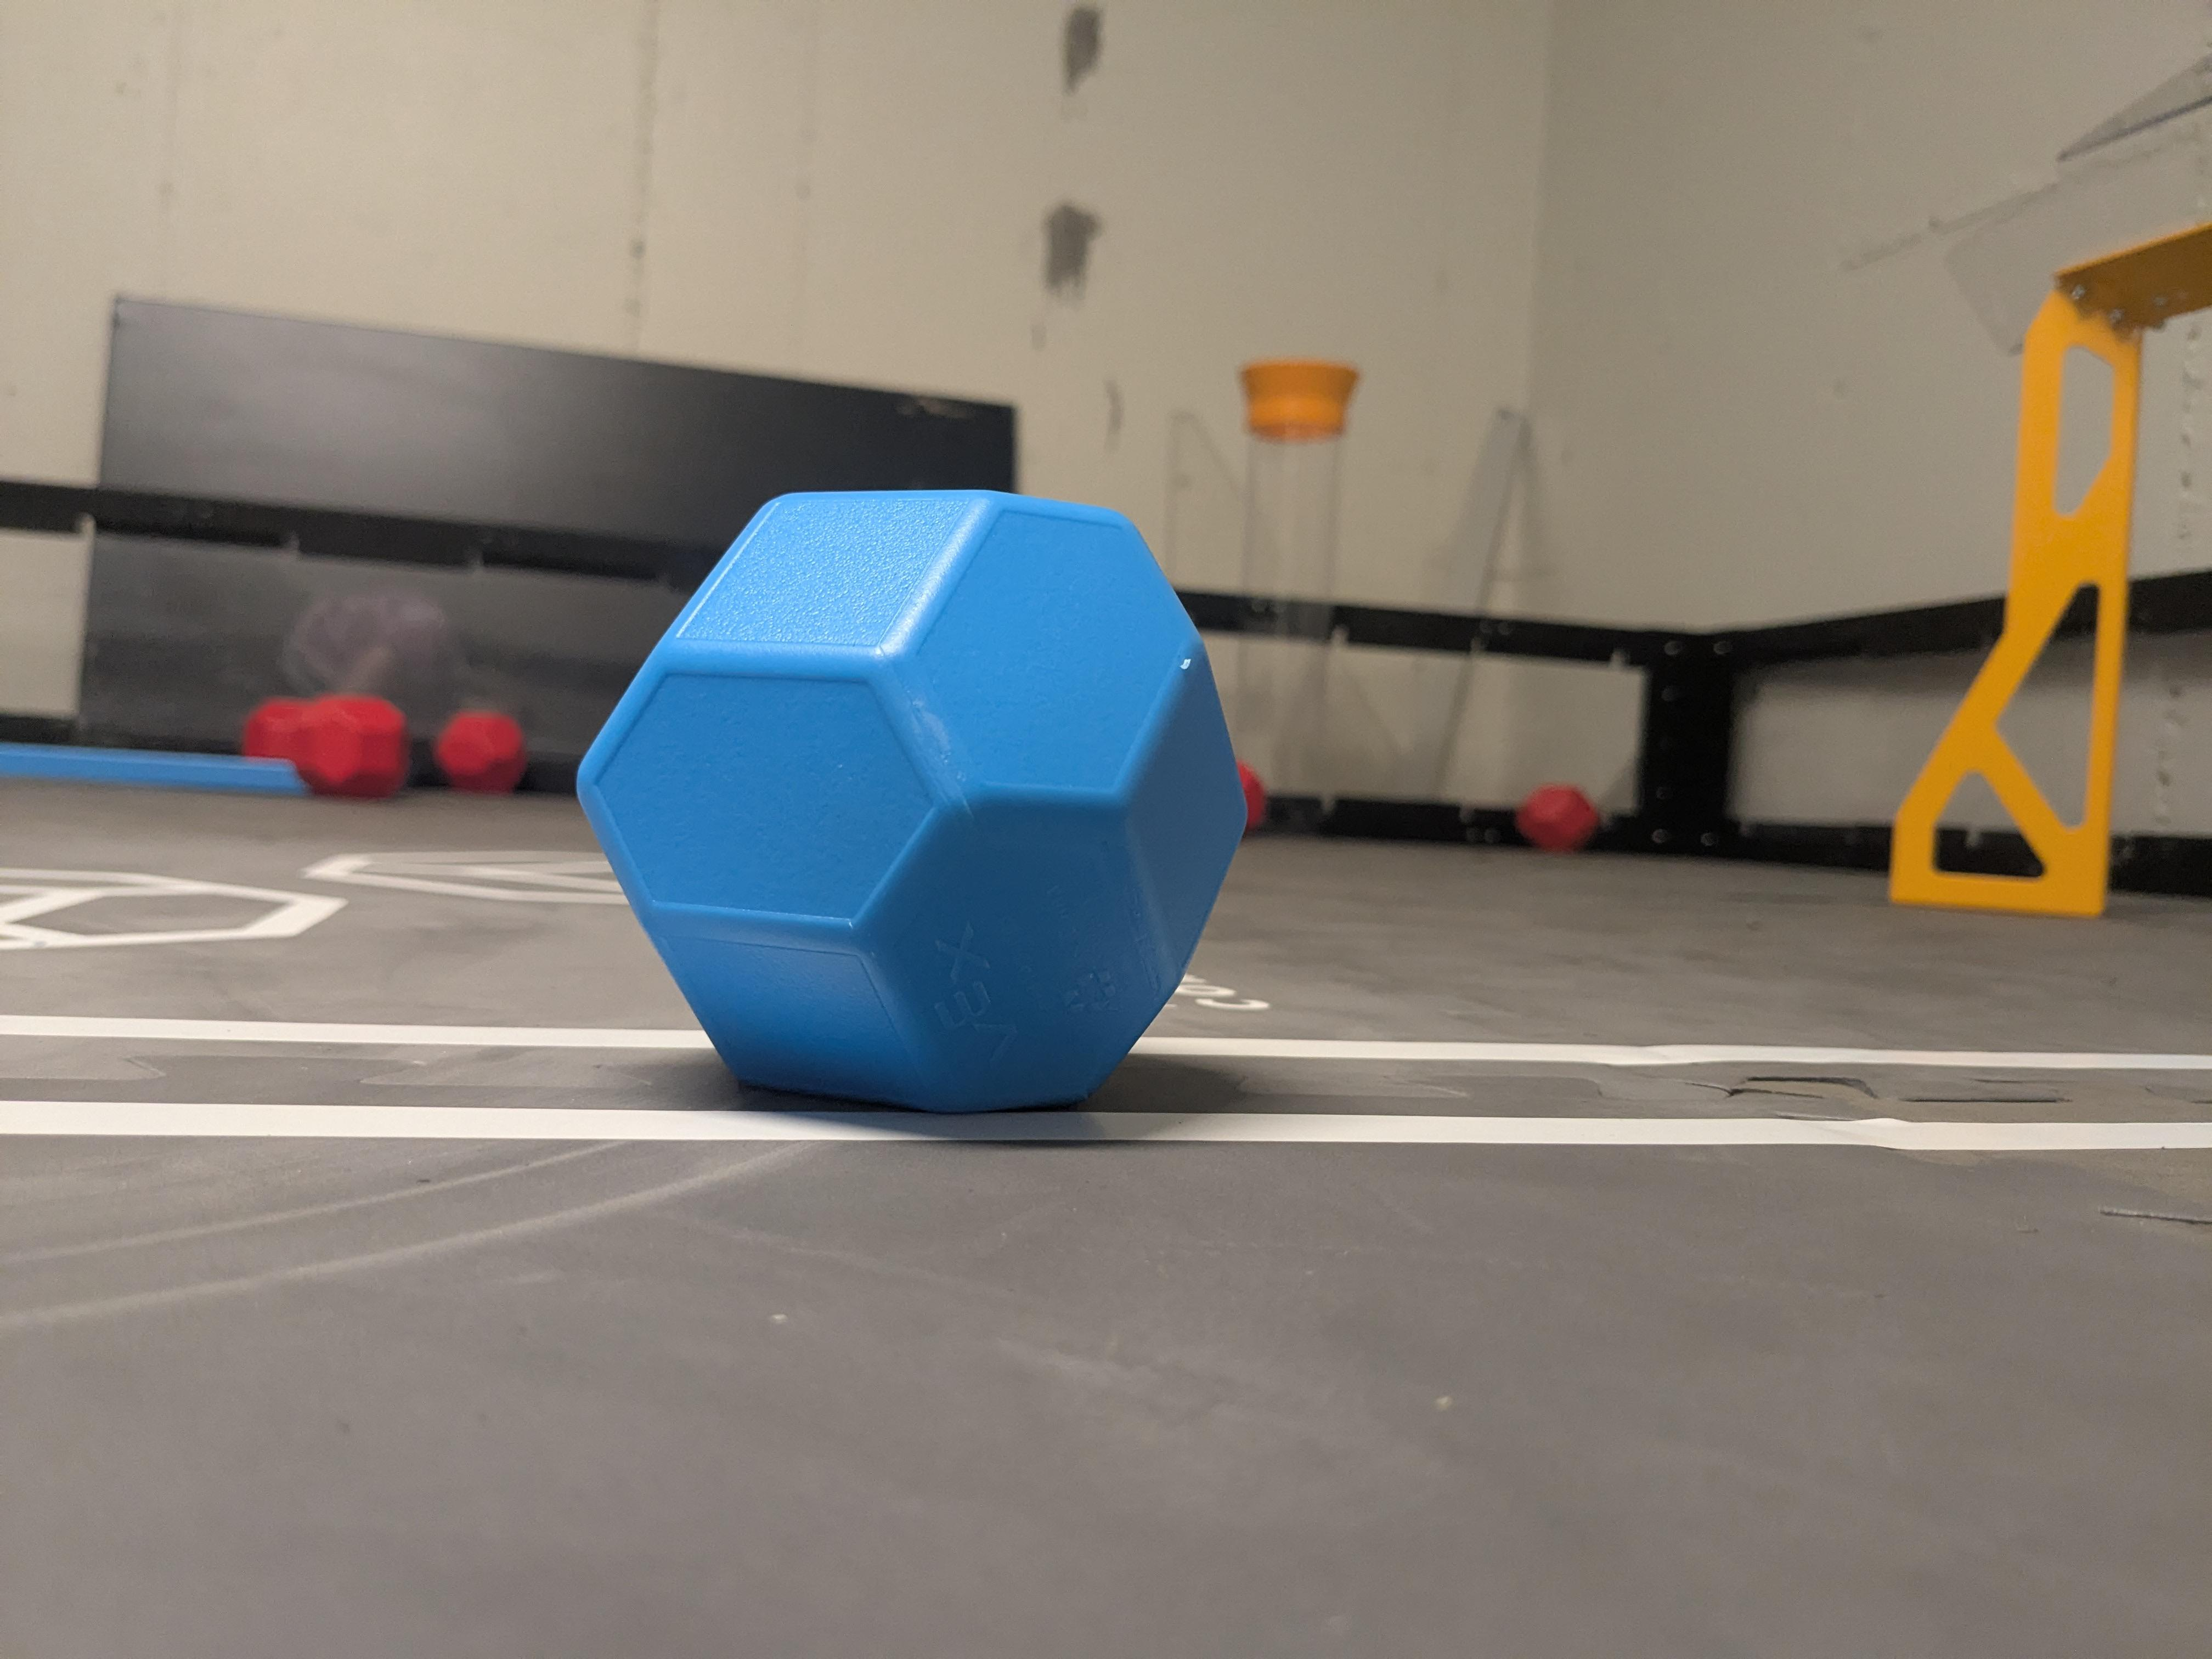Vex-Pieces-BLUE: (577, 495, 1247, 1114)
